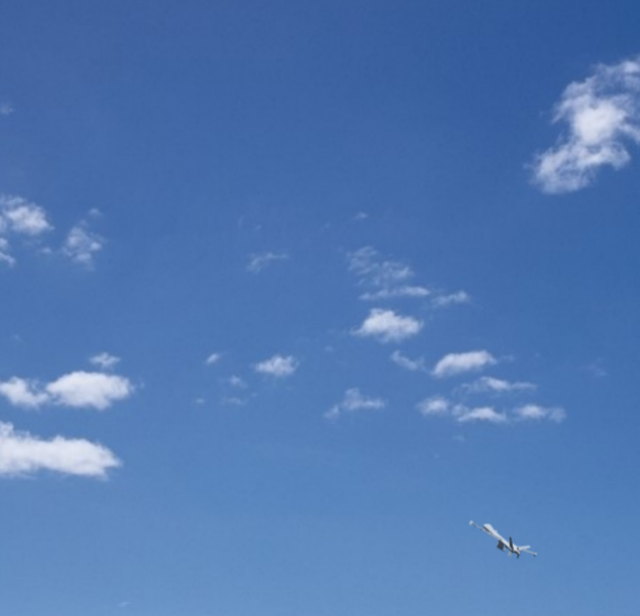military drone: (469, 519, 538, 559)
